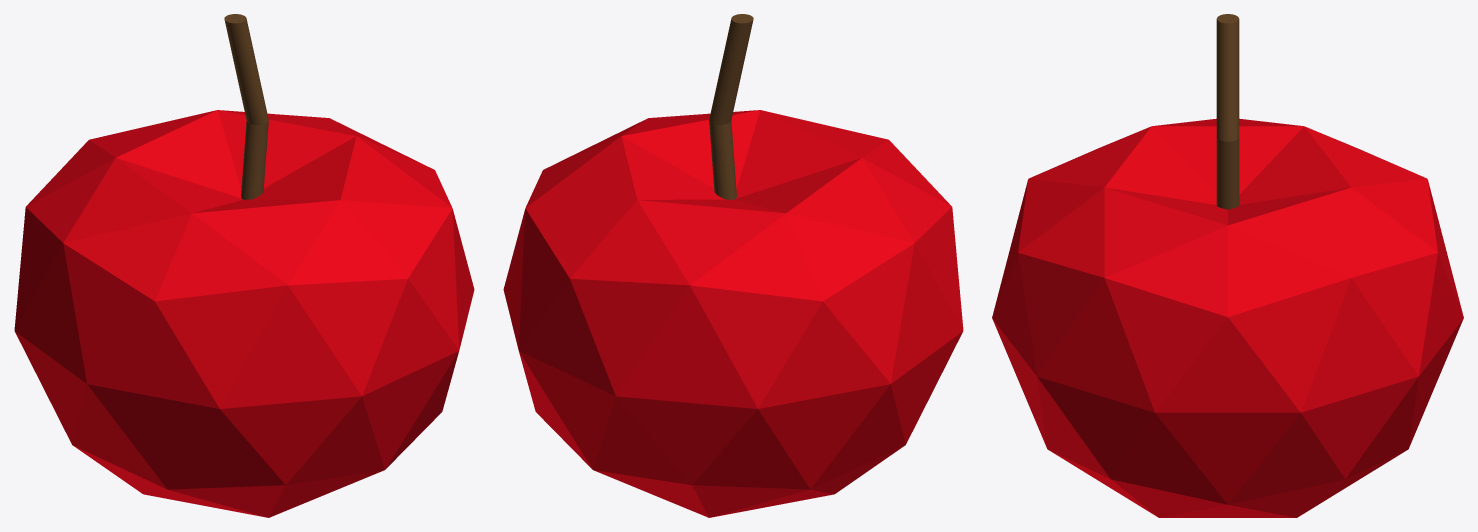
The model's file is apple.fbx.
3 renders of one model, left to right at view 1: azimuth 30°, elevation 25°; view 2: azimuth 150°, elevation 25°; view 3: azimuth 270°, elevation 25°, orthographic.
Visible parts, largest first — view 1: Icosphere, Cylinder; view 2: Icosphere, Cylinder; view 3: Icosphere, Cylinder.
Boxes of the visible parts, x1,y1,x2,y2 form: Icosphere: [14, 110, 474, 517]; Cylinder: [224, 14, 268, 199]; Icosphere: [503, 110, 963, 517]; Cylinder: [709, 14, 753, 199]; Icosphere: [992, 118, 1463, 517]; Cylinder: [1216, 14, 1239, 209].
Bounding box in the file's own units: 201 × 225 × 211.
